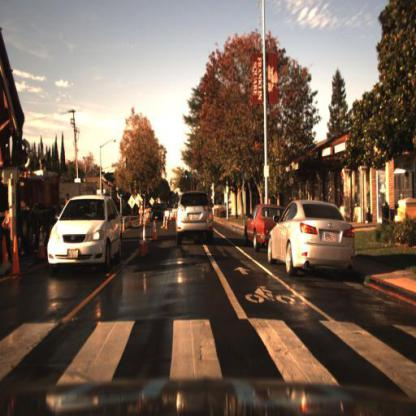car: (267, 192, 360, 292), (43, 190, 127, 282), (173, 190, 216, 243), (238, 197, 267, 252), (149, 201, 172, 230)
trafficLight: (182, 168, 190, 187), (120, 186, 126, 200)
truck: (1, 155, 62, 273)
